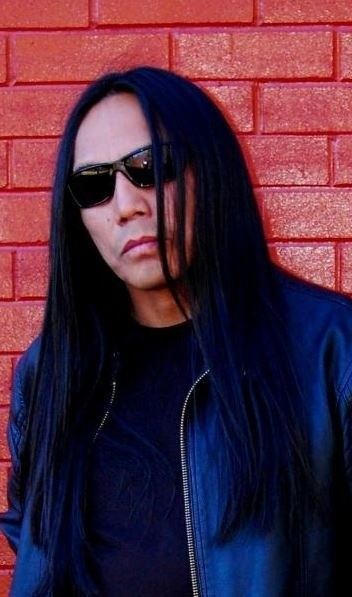face_no_mask: (72, 88, 218, 284)
